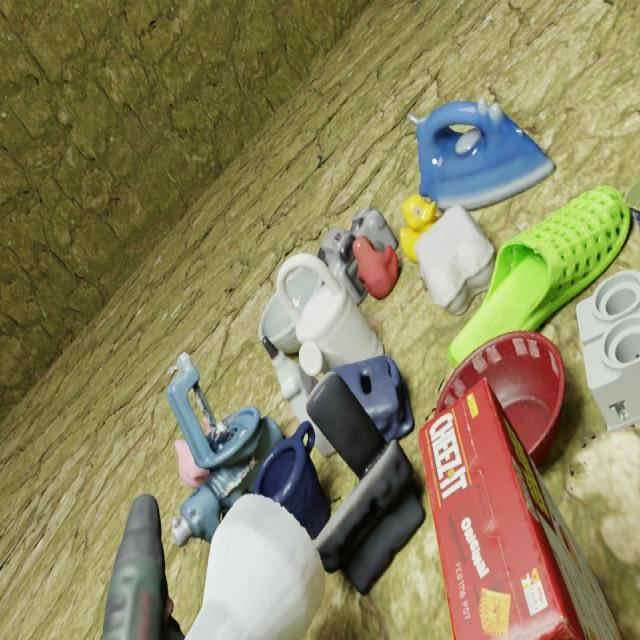Other Objects: (419, 380, 619, 639), (308, 373, 424, 593), (166, 353, 283, 544), (185, 495, 325, 639), (434, 331, 564, 464), (408, 99, 553, 211), (276, 253, 382, 375), (102, 495, 183, 639), (576, 269, 639, 429), (252, 421, 330, 537), (415, 207, 494, 313), (318, 208, 397, 303), (332, 355, 413, 441), (261, 336, 309, 421), (400, 193, 441, 263), (352, 237, 398, 297), (258, 289, 299, 355), (285, 268, 322, 311), (320, 440, 333, 455)
